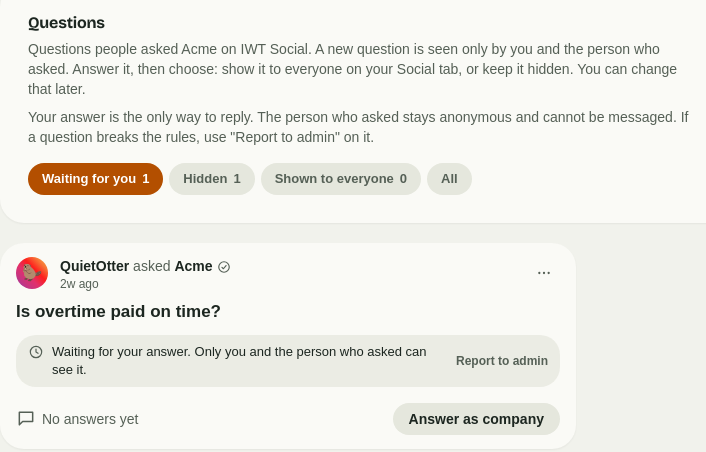
Scenario: picking another state reads that list
expect the text "Is overtime paid on time?" is shown: met, box [16,302,221,321]
Click the radio button named "Hidden 1" at [212, 179], box [169,163,255,194]
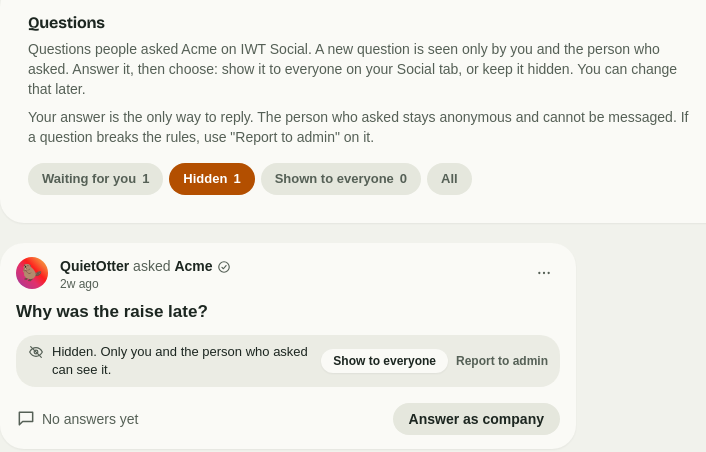
expect the text "Why was the raise late?" is shown: met, box [16,302,208,321]
expect the text "Is overtime paid on time?" is gone: met
